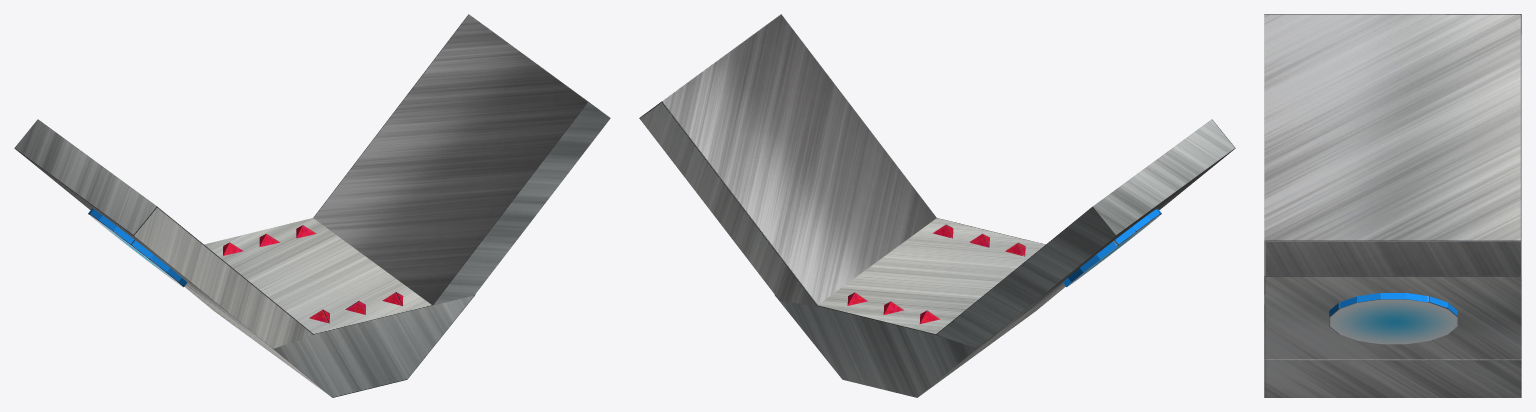
File: gravi_basket.fbx
3 renders of one model, left to right at view 1: azimuth 30°, elevation 25°; view 2: azimuth 150°, elevation 25°; view 3: azimuth 270°, elevation 25°, orthographic. The views are drawn at different scales.
Parts seen in each view (by area): view 1: Cube; view 2: Cube; view 3: Cube.
Boxes of the visible parts, bbox=[...] form: Cube: bbox=[14, 14, 610, 397]; Cube: bbox=[639, 14, 1235, 397]; Cube: bbox=[1264, 14, 1521, 397].
Size of the model in its own units: 4.61 by 2.16 by 2.
